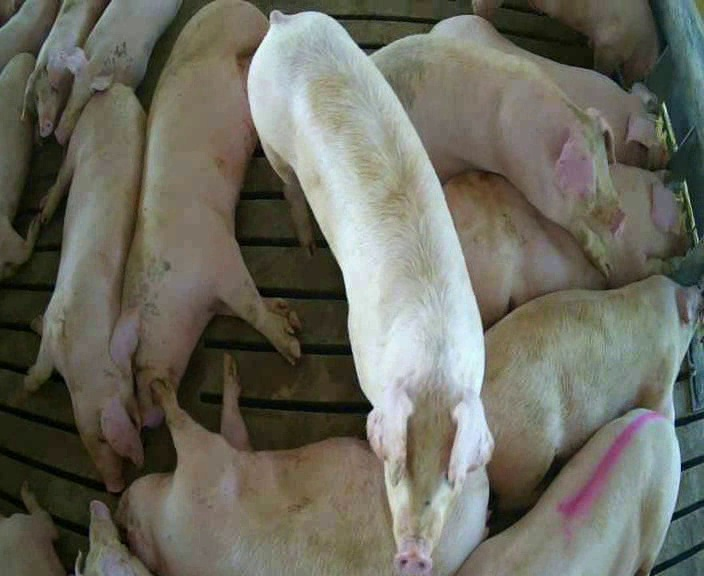pig: (111, 3, 300, 425), (482, 276, 698, 509), (25, 83, 144, 492), (444, 163, 687, 326), (431, 15, 669, 168), (457, 409, 679, 573), (55, 2, 179, 143), (21, 2, 105, 136), (0, 53, 38, 279), (0, 1, 59, 71)
